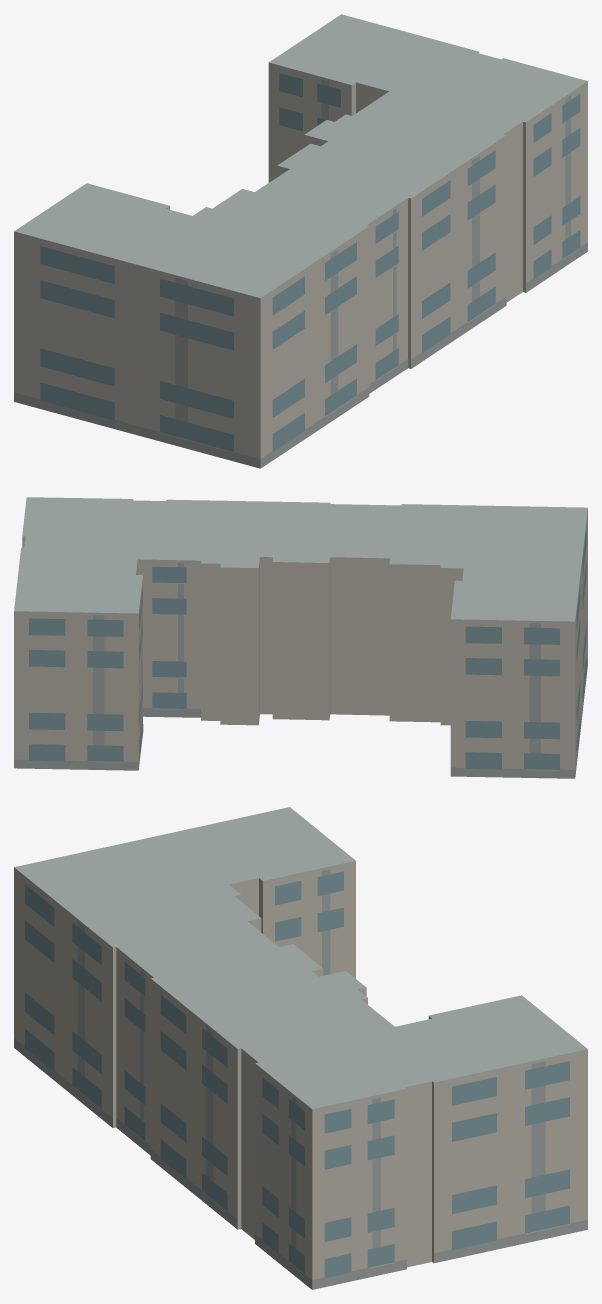
Rendered from survey-upis-32840384.glb.
3 renders of one model, top to bottom at view 1: azimuth 30°, elevation 25°; view 2: azimuth 150°, elevation 25°; view 3: azimuth 270°, elevation 25°, orthographic. The views are drawn at different scales.
Visible parts, largest first — view 1: survey-upis-32840384.tmp; view 2: survey-upis-32840384.tmp; view 3: survey-upis-32840384.tmp.
Part boxes in pixels (bbox=[...]): survey-upis-32840384.tmp: bbox=[14, 14, 587, 468]; survey-upis-32840384.tmp: bbox=[14, 497, 587, 778]; survey-upis-32840384.tmp: bbox=[14, 807, 587, 1289].
Size of the model in its own units: 54.72 by 15.25 by 43.91.
